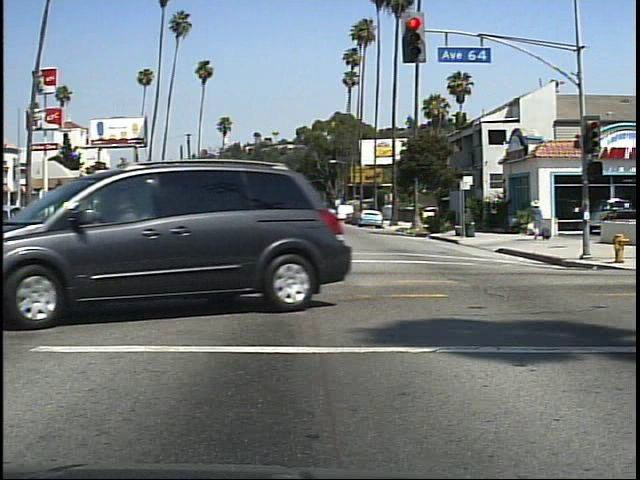person: (528, 195, 549, 247)
